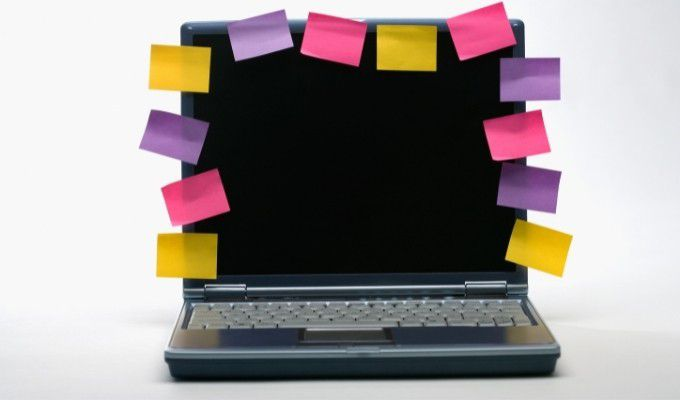Note: (160, 170, 231, 228), (505, 218, 573, 277), (448, 3, 516, 61), (139, 112, 210, 167), (301, 12, 366, 68), (224, 11, 294, 61), (494, 163, 562, 214), (483, 112, 552, 161), (147, 45, 210, 94), (376, 26, 438, 72), (156, 234, 218, 279), (499, 56, 562, 100)
